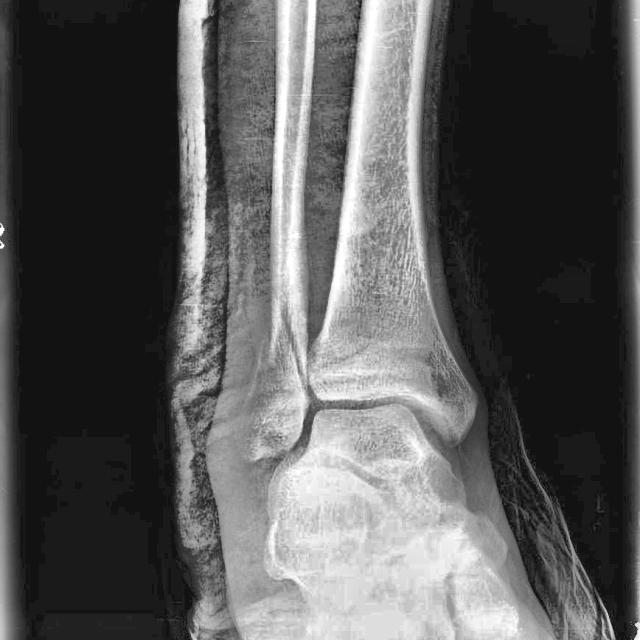line: (280, 305, 313, 403)
